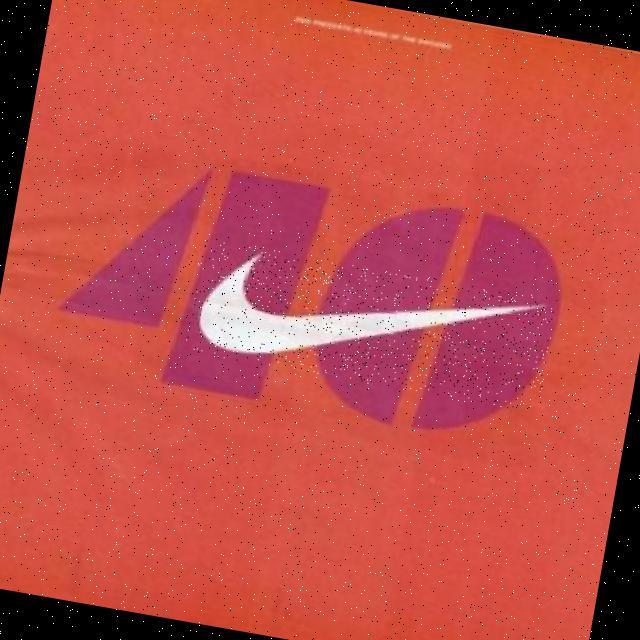Nike: (183, 236, 558, 413)
